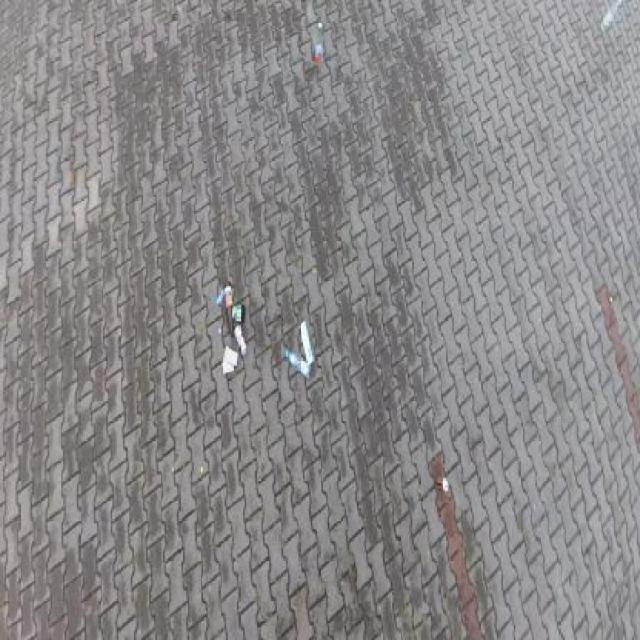Garbage: (285, 347, 312, 381), (299, 319, 314, 367), (601, 0, 622, 34), (224, 281, 234, 336), (222, 346, 238, 373), (234, 324, 247, 355), (316, 22, 324, 68), (232, 303, 245, 324), (436, 476, 449, 491), (216, 289, 225, 306), (218, 327, 221, 333), (200, 468, 202, 474)
